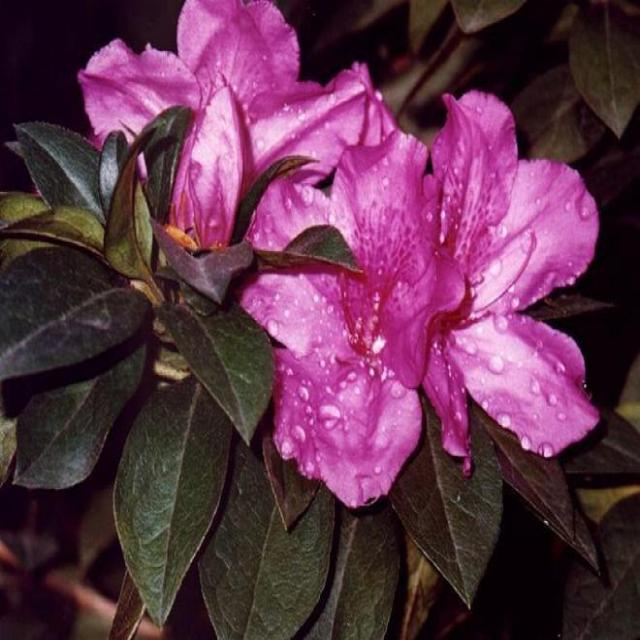azalea: (97, 0, 590, 474)
